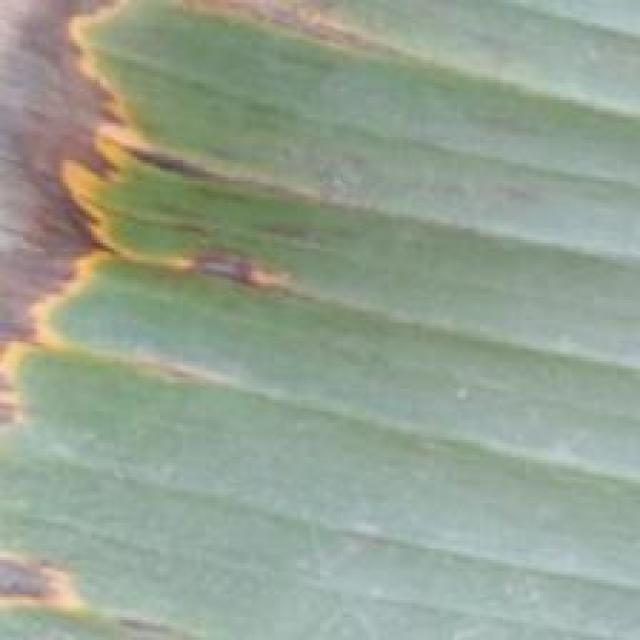Early_leaf_spot: (0, 0, 380, 462), (0, 507, 112, 639)
